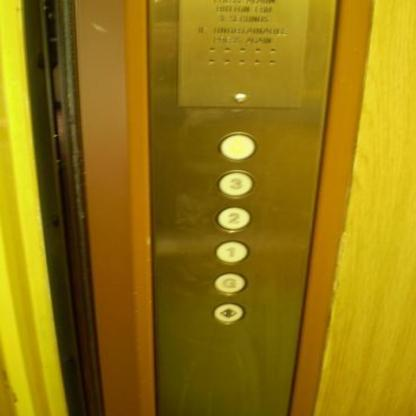1: (212, 238, 250, 264)
2: (212, 204, 254, 233)
3: (214, 168, 257, 198)
G: (211, 270, 248, 294)
empty: (217, 129, 258, 162)
open: (211, 300, 245, 324)
